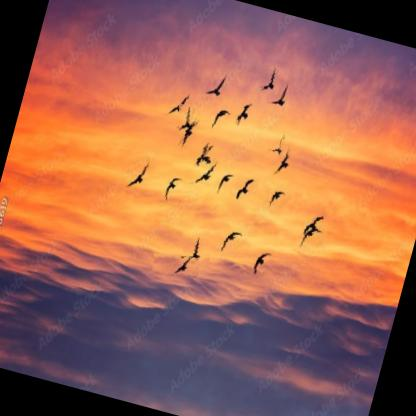bird: (293, 200, 335, 261), (119, 147, 159, 211), (153, 80, 192, 133), (170, 102, 205, 157), (175, 224, 215, 270), (150, 248, 202, 283), (241, 238, 278, 285), (209, 217, 247, 262), (266, 76, 304, 120), (257, 177, 292, 220), (152, 169, 186, 212), (271, 138, 298, 187), (189, 154, 220, 196), (203, 68, 232, 111), (259, 128, 290, 166), (255, 63, 285, 96), (231, 168, 257, 206), (230, 98, 258, 131), (206, 102, 232, 137), (188, 138, 214, 171), (216, 168, 234, 196)
